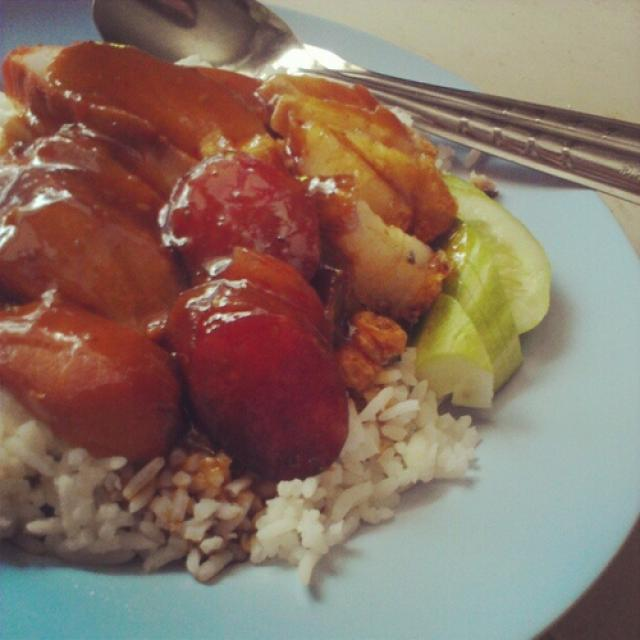猪肉菜式: (5, 11, 626, 624)
